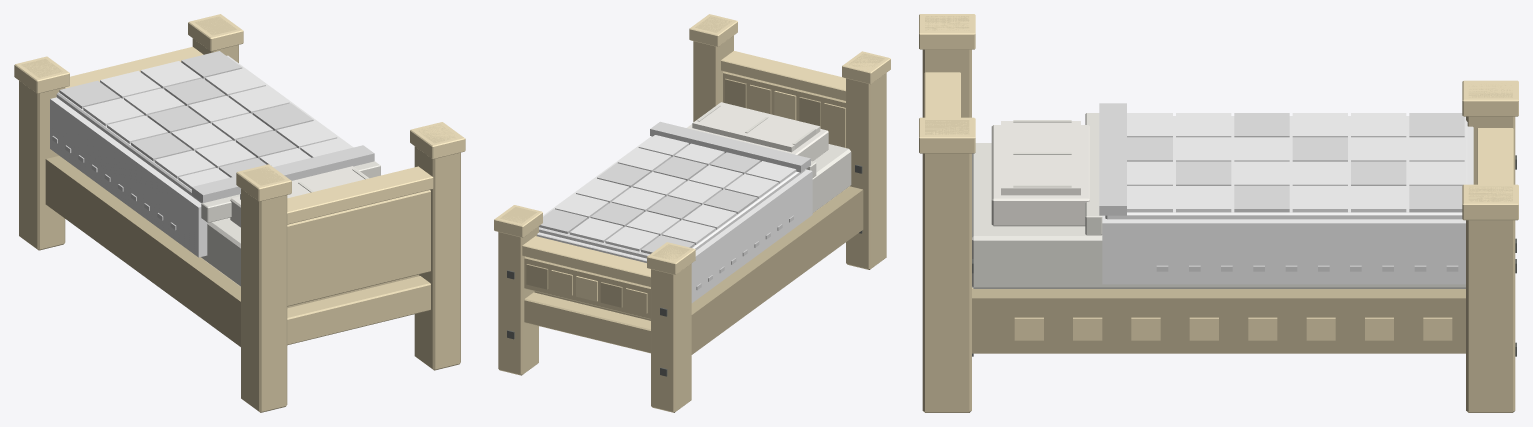
Rendered from birch_bed.gltf.
The picture shows the model from 3 angles, left to right: view 1: azimuth 30°, elevation 25°; view 2: azimuth 150°, elevation 25°; view 3: azimuth 270°, elevation 25°; orthographic projection. The views are drawn at different scales.
Size of the model in its own units: 0.954 by 1 by 1.95.
